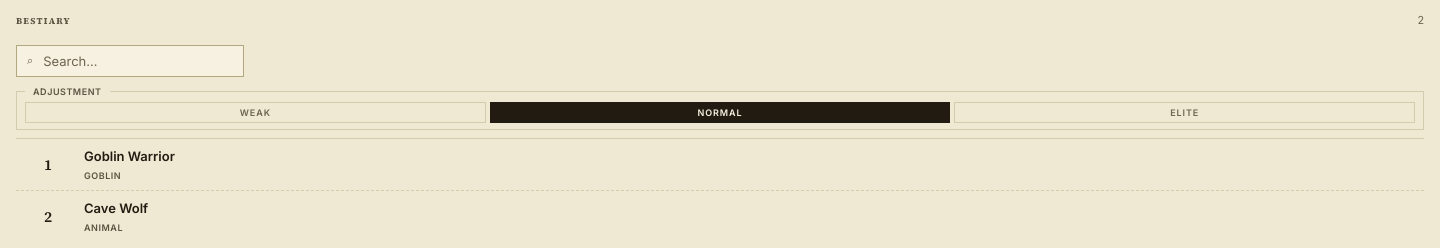
Test: BestiarySection › search filters creatures by name (case-insensitive)
The width and height of the screenshot is (1440, 248).
Type "WOLF" into the search field named "Search bestiary". click: (137, 61)
box: x1=41 y1=52 x2=233 y2=70
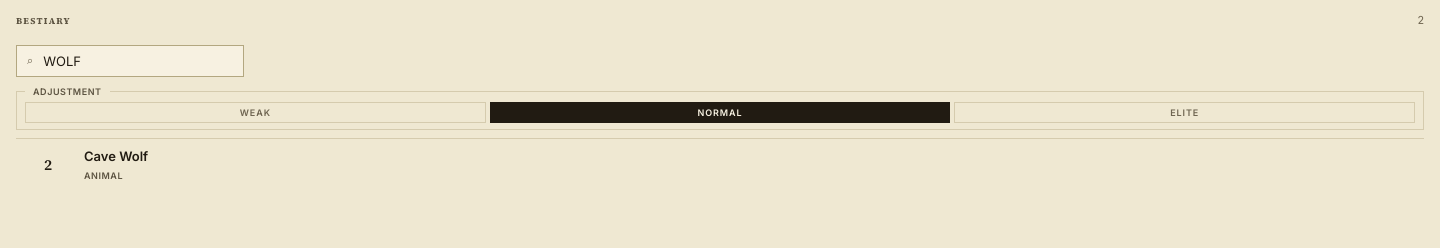
Expected: the text "Cave Wolf" is shown, x1=84 y1=148 x2=148 y2=164
Now the button "Goblin Warrior" is gone
